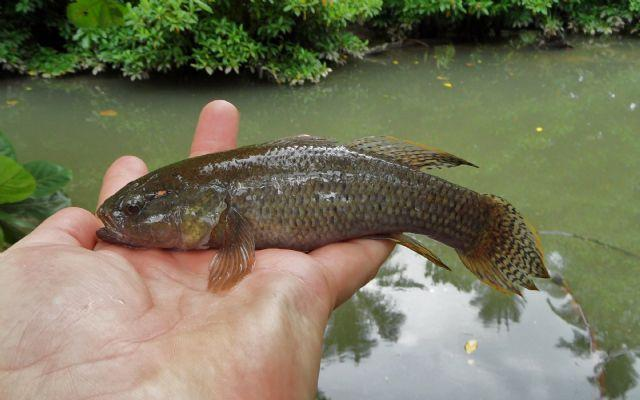Goby: (96, 131, 549, 301)
